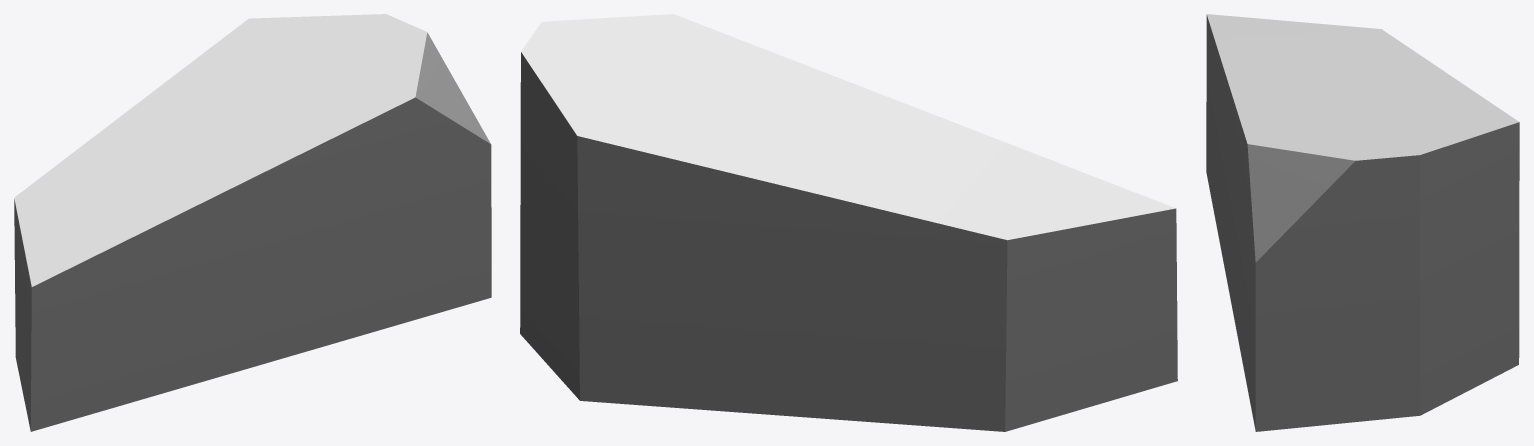
Rendered from stone winter small 4.fbx.
3 renders of one model, left to right at view 1: azimuth 30°, elevation 25°; view 2: azimuth 150°, elevation 25°; view 3: azimuth 270°, elevation 25°, orthographic. The views are drawn at different scales.
Visible parts, largest first — view 1: stone winter small 4; view 2: stone winter small 4; view 3: stone winter small 4.
Part boxes in pixels (x1=…): stone winter small 4: x1=14, y1=14, x2=491, y2=431; stone winter small 4: x1=520, y1=14, x2=1177, y2=431; stone winter small 4: x1=1206, y1=14, x2=1519, y2=431.
Bounding box in the file's own units: 86.71 × 40.62 × 44.19.
